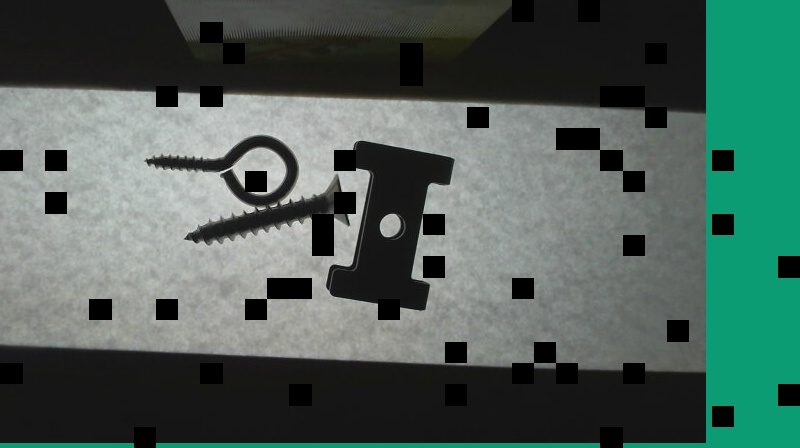O001: (140, 130, 301, 209)
O002: (321, 138, 457, 312)
S001: (177, 173, 350, 245)
